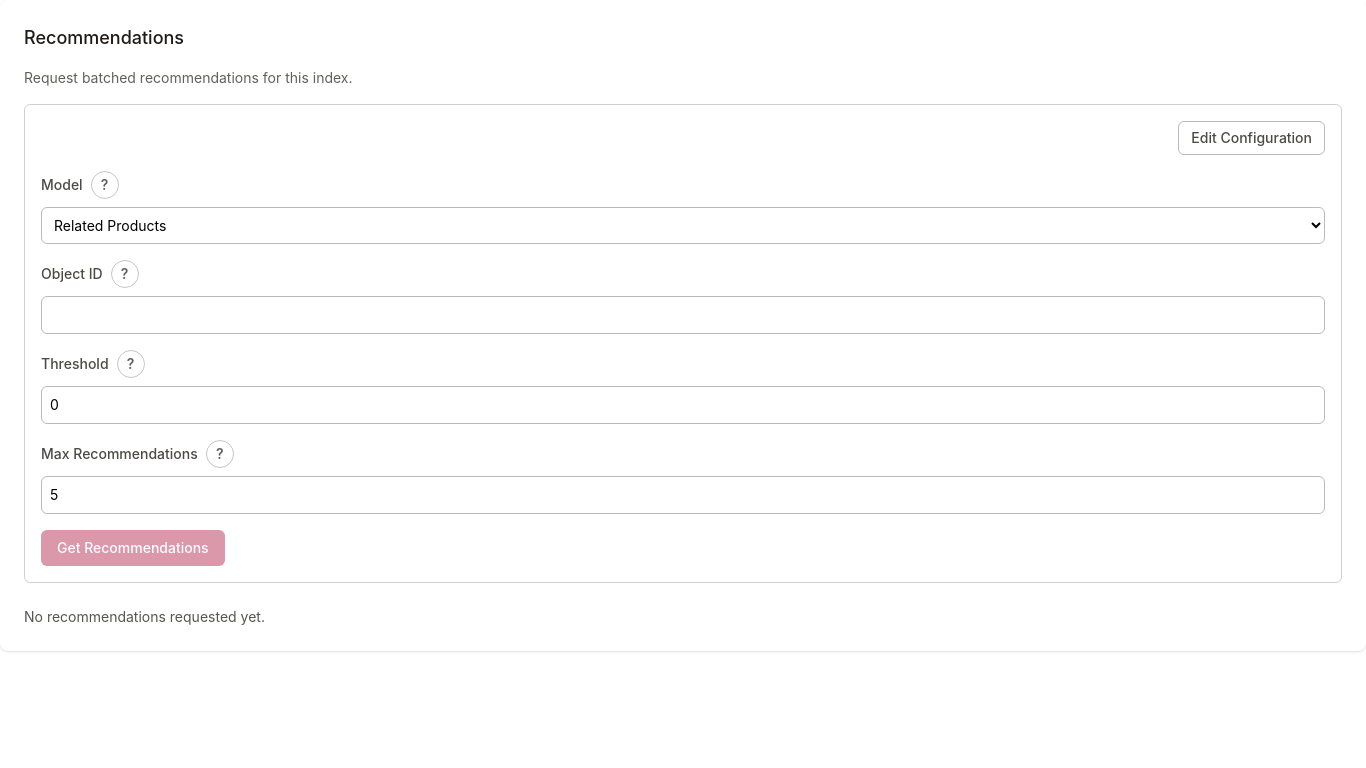
RecommendationsTab › switching model toggles required field visibility
Expected: the field labelled "Object ID" is shown, left=41, top=296, right=1325, bottom=334
Expected: the field labelled "Facet Name" is not shown
Step 1. Select "Trending Facets" in the dropdown with test id "recommendations-model-select" → (683, 226), box left=41, top=207, right=1325, bottom=244
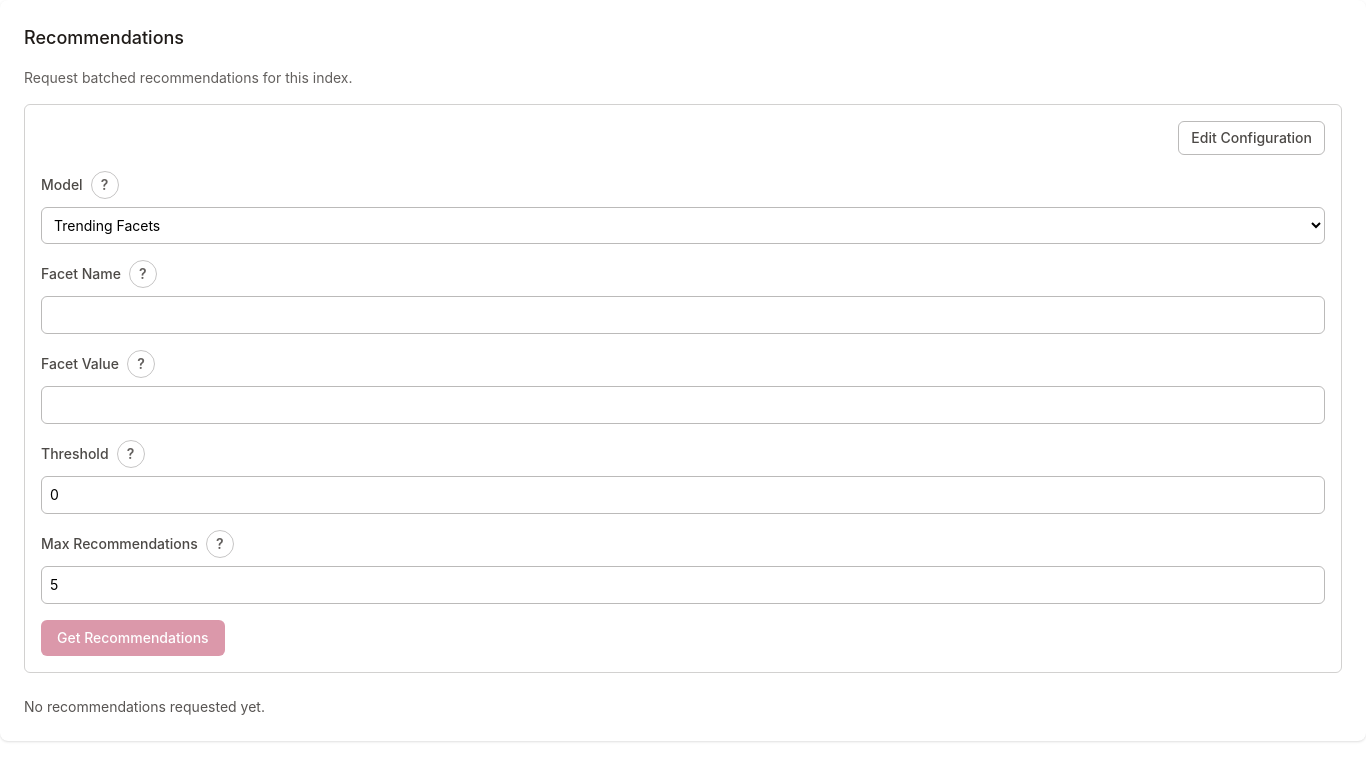
Expected: the field labelled "Facet Name" is shown, left=41, top=296, right=1325, bottom=334
Result: the label labelled "Object ID" is gone
Result: the field labelled "Facet Value" is shown at left=41, top=386, right=1325, bottom=424
